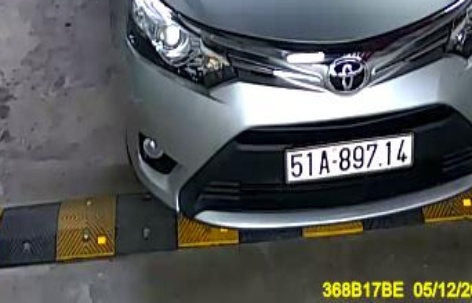plate: (281, 130, 423, 186)
